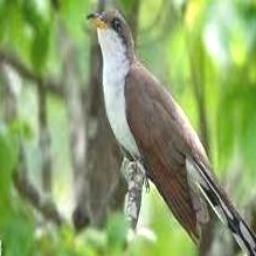Cuckoo: (87, 9, 256, 256)
